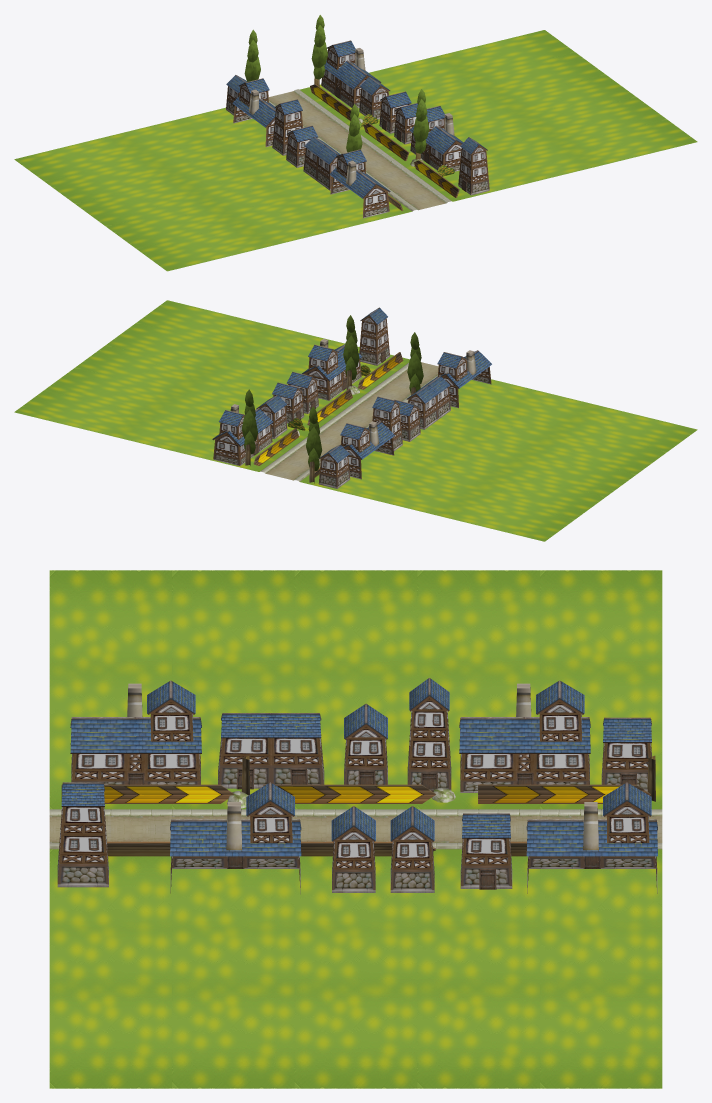
Rendered from VillageRoad02_Short.FBX.
The picture shows the model from 3 angles, top to bottom: view 1: azimuth 30°, elevation 25°; view 2: azimuth 150°, elevation 25°; view 3: azimuth 270°, elevation 25°; orthographic projection. The views are drawn at different scales.
Parts seen in each view (by area): view 1: Road, House (×12), Tree (×4), Fence (×3); view 2: Road, House (×12), Tree (×4), Fence (×3); view 3: Road, House (×12), Fence (×5).
Boxes of the visible parts, x1,y1,x2,y2 form: Road: (14,30,697,271); House (×12): (226,40,489,218); Tree (×4): (244,15,429,159); Fence (×3): (310,84,459,197); Road: (14,300,697,541); House (×12): (212,307,491,488); Tree (×4): (241,315,423,483); Fence (×3): (253,352,403,465); Road: (49,570,662,1088); House (×12): (57,678,657,894); Fence (×5): (61,784,650,856).
Size of the model in its own units: 10000 by 1386 by 5000.
